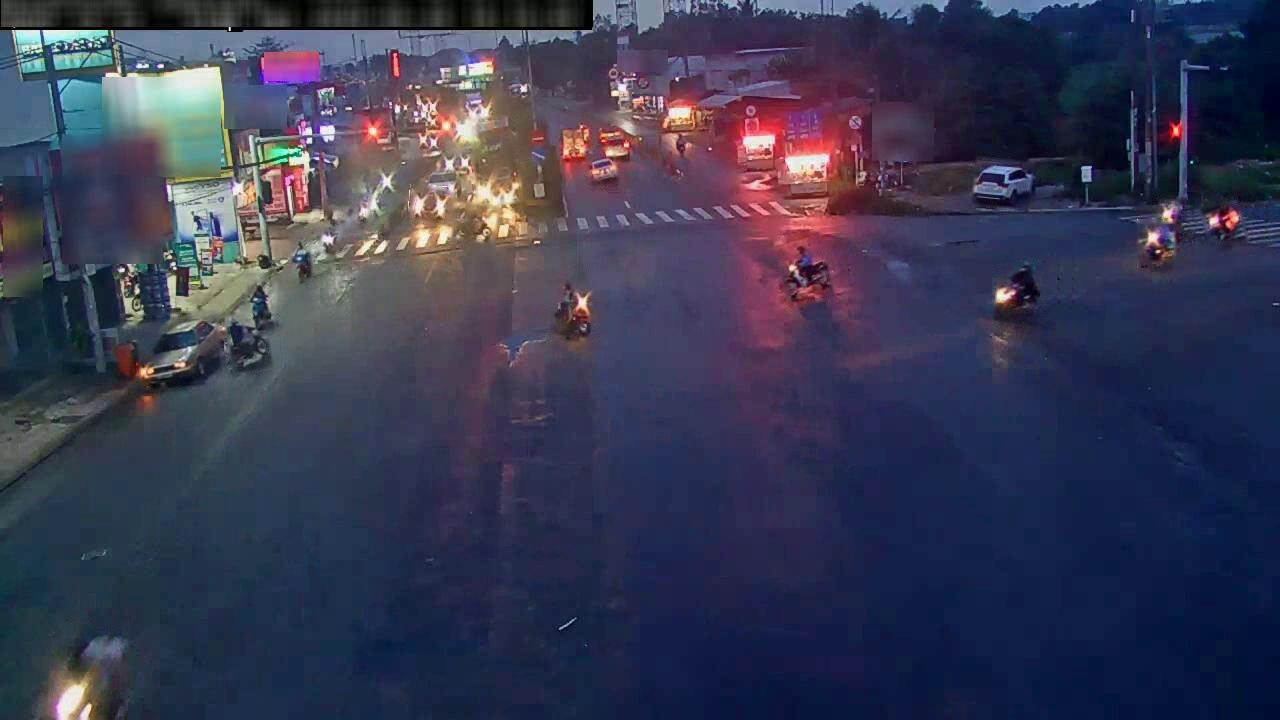Car: (137, 320, 226, 387), (972, 165, 1034, 204), (406, 187, 449, 220), (409, 190, 451, 223), (599, 129, 630, 160), (426, 172, 457, 197), (589, 158, 618, 182)
Motorcycle: (994, 262, 1040, 313), (553, 282, 593, 338), (1139, 225, 1177, 266), (557, 306, 592, 338), (293, 248, 311, 280)
Motorcyclist: (48, 633, 128, 719), (227, 285, 273, 370), (783, 246, 830, 300), (1206, 201, 1241, 245), (454, 206, 495, 243), (1159, 200, 1181, 238), (321, 210, 339, 255), (352, 194, 370, 229)
Traffic light: (389, 50, 400, 78)
Truck: (473, 118, 519, 202)
